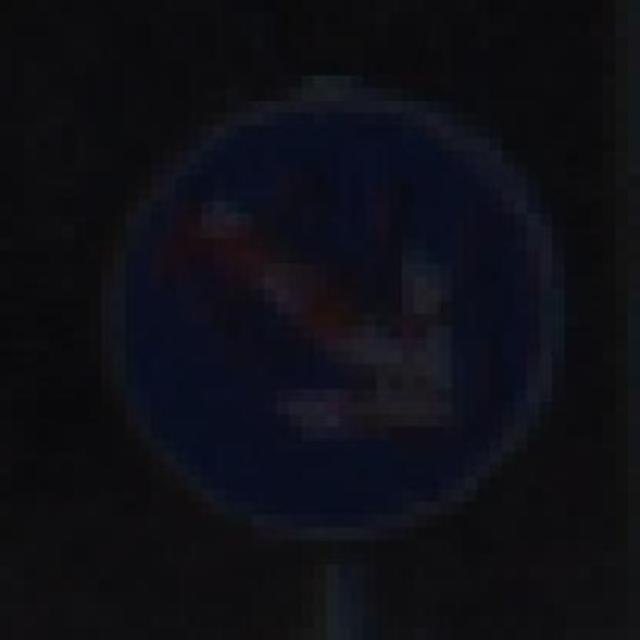Keep-Right: (75, 62, 578, 566)
